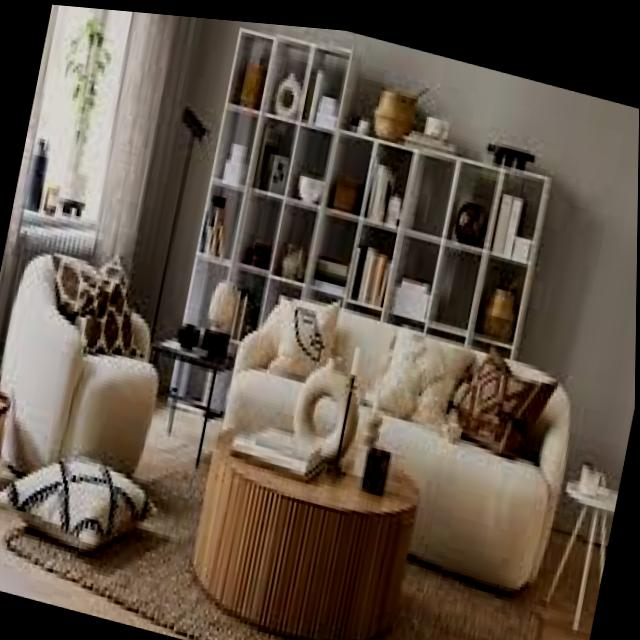noobs: (0, 509, 287, 640), (386, 566, 589, 640)
obs: (217, 292, 570, 588), (193, 415, 421, 640), (0, 247, 163, 494), (0, 450, 161, 553), (543, 443, 624, 628), (139, 329, 239, 463), (0, 358, 11, 460)
semobs: (104, 497, 201, 562)
